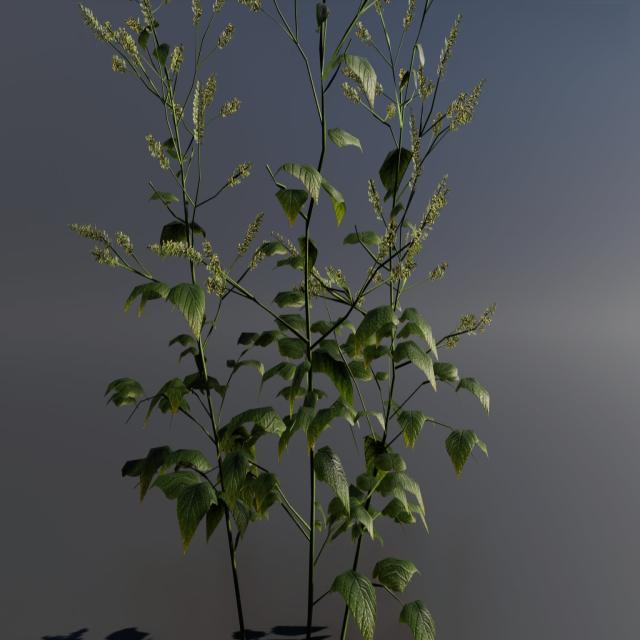Medicinal-Arive Dantu: (316, 20, 488, 634), (73, 0, 241, 316), (116, 358, 298, 568), (245, 158, 313, 356)
